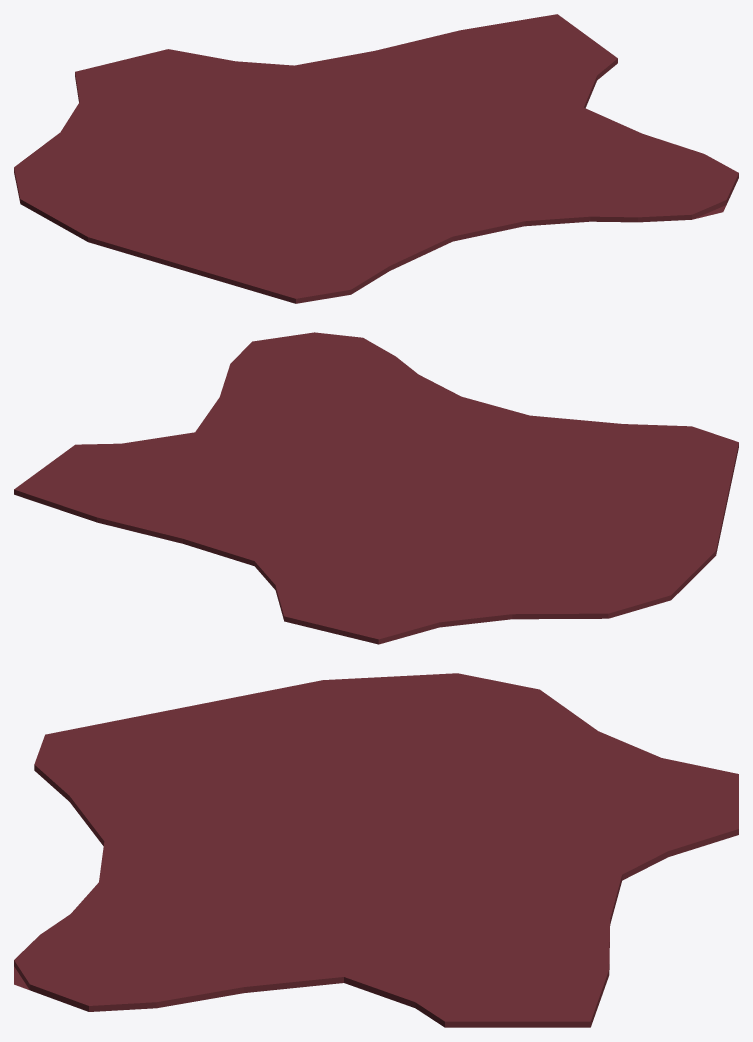
File: @Tag.Fluid.2.obj
The picture shows the model from 3 angles, top to bottom: view 1: azimuth 30°, elevation 25°; view 2: azimuth 150°, elevation 25°; view 3: azimuth 270°, elevation 25°; orthographic projection. The views are drawn at different scales.
Parts seen in each view (by area): view 1: Fluid_wine; view 2: Fluid_wine; view 3: Fluid_wine.
Boxes of the visible parts, box(x1,y1,x2,y2) form: Fluid_wine: box(14, 14, 738, 303); Fluid_wine: box(14, 332, 738, 644); Fluid_wine: box(14, 673, 738, 1027).
Size of the model in its own units: 44.61 by 0.3631 by 39.23.
Materials: 1 (1 with a texture image).
